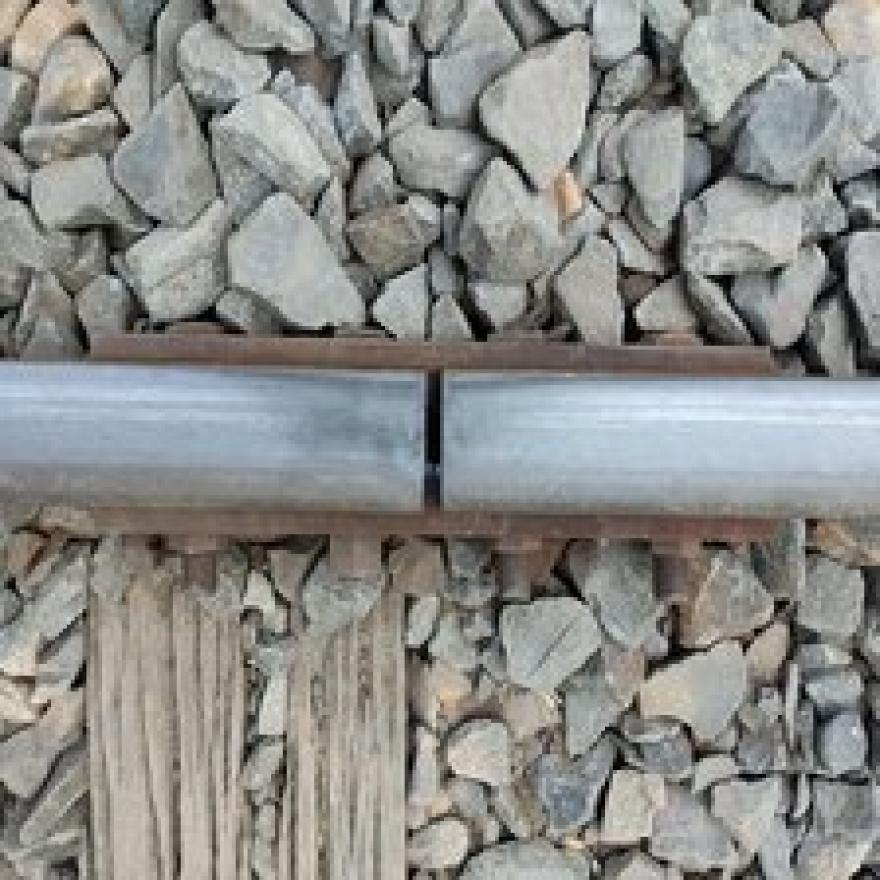railway-gap: (342, 330, 526, 532)
